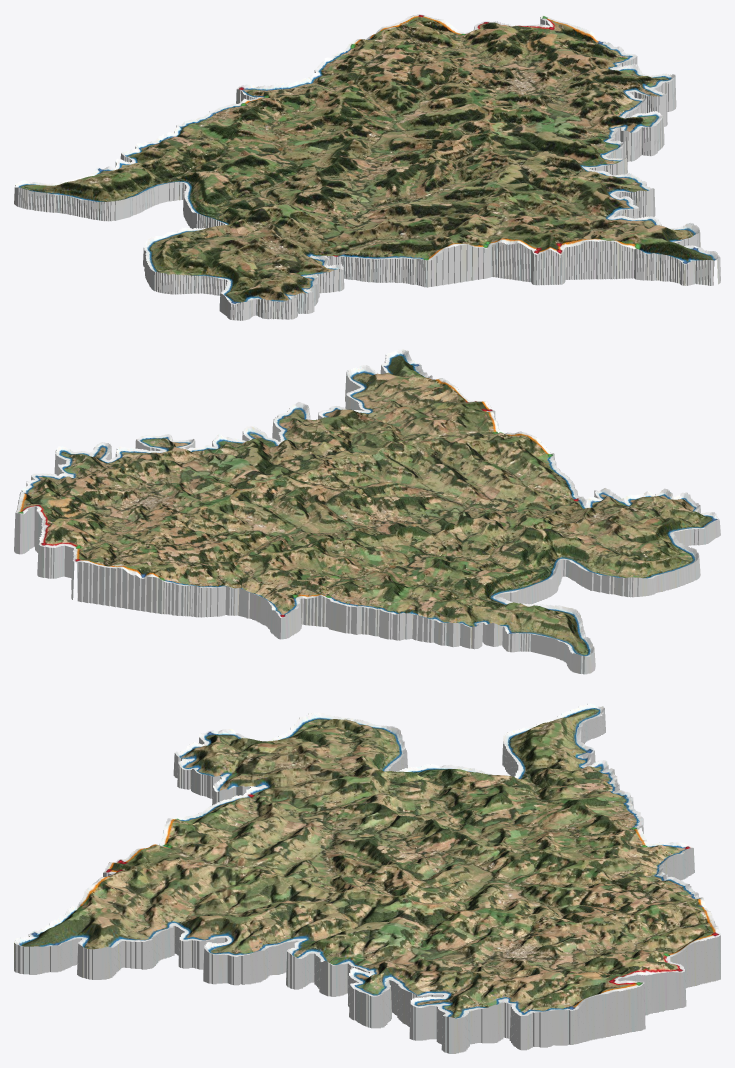
The picture shows the model from 3 angles, top to bottom: view 1: azimuth 30°, elevation 25°; view 2: azimuth 150°, elevation 25°; view 3: azimuth 270°, elevation 25°; orthographic projection. The views are drawn at different scales.
Size of the model in its own units: 0.9998 by 0.0644 by 0.9073.
Materials: 1 (1 with a texture image).
